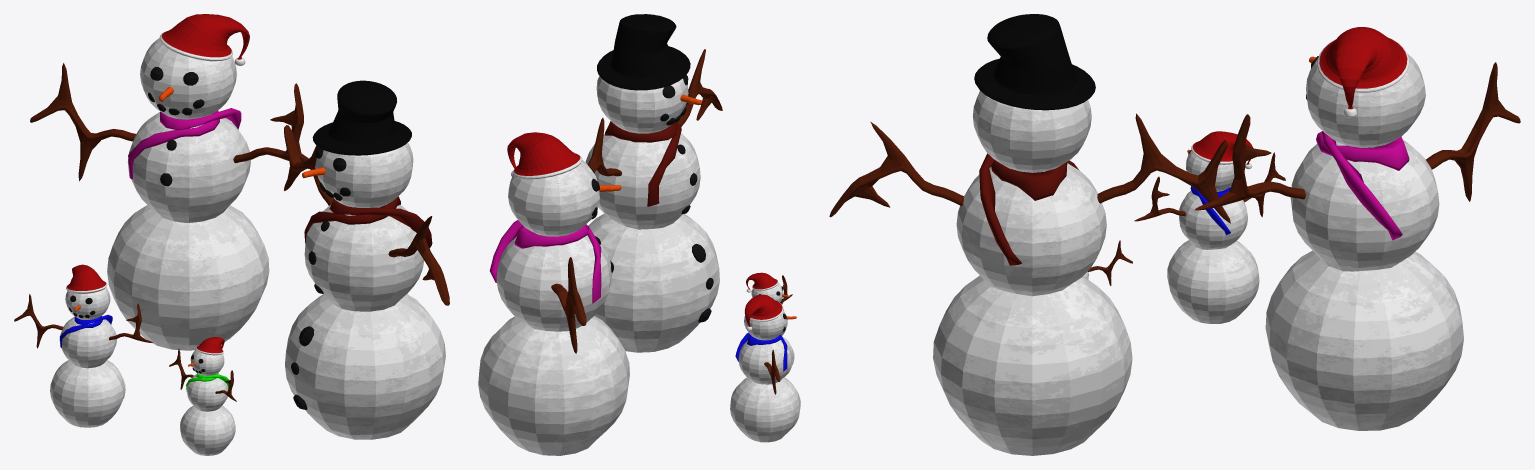
The model's file is BonecoDeNeve.glb.
3 views of the same model, side by side, from view 1: azimuth 30°, elevation 25°; view 2: azimuth 150°, elevation 25°; view 3: azimuth 270°, elevation 25° (orthographic). The views are drawn at different scales.
Parts seen in each view (by area): view 1: bonecodeneve.001, Circle.001, Circle.008; view 2: bonecodeneve.001, Circle.001, Circle.008, Circle.002; view 3: bonecodeneve.001, Circle.001, Circle.008.
Part boxes in pixels (<box>): bonecodeneve.001: <box>14,38,449,455</box>; Circle.001: <box>159,14,249,65</box>; Circle.008: <box>66,264,107,293</box>; bonecodeneve.001: <box>478,14,800,455</box>; Circle.001: <box>507,132,582,179</box>; Circle.008: <box>744,294,783,330</box>; Circle.002: <box>746,272,778,292</box>; bonecodeneve.001: <box>829,14,1520,455</box>; Circle.001: <box>1317,27,1409,117</box>; Circle.008: <box>1191,131,1252,169</box>.
Bounding box in the file's own units: 8.09 × 8.17 × 12.42.
Materials: 11 (1 with a texture image).
